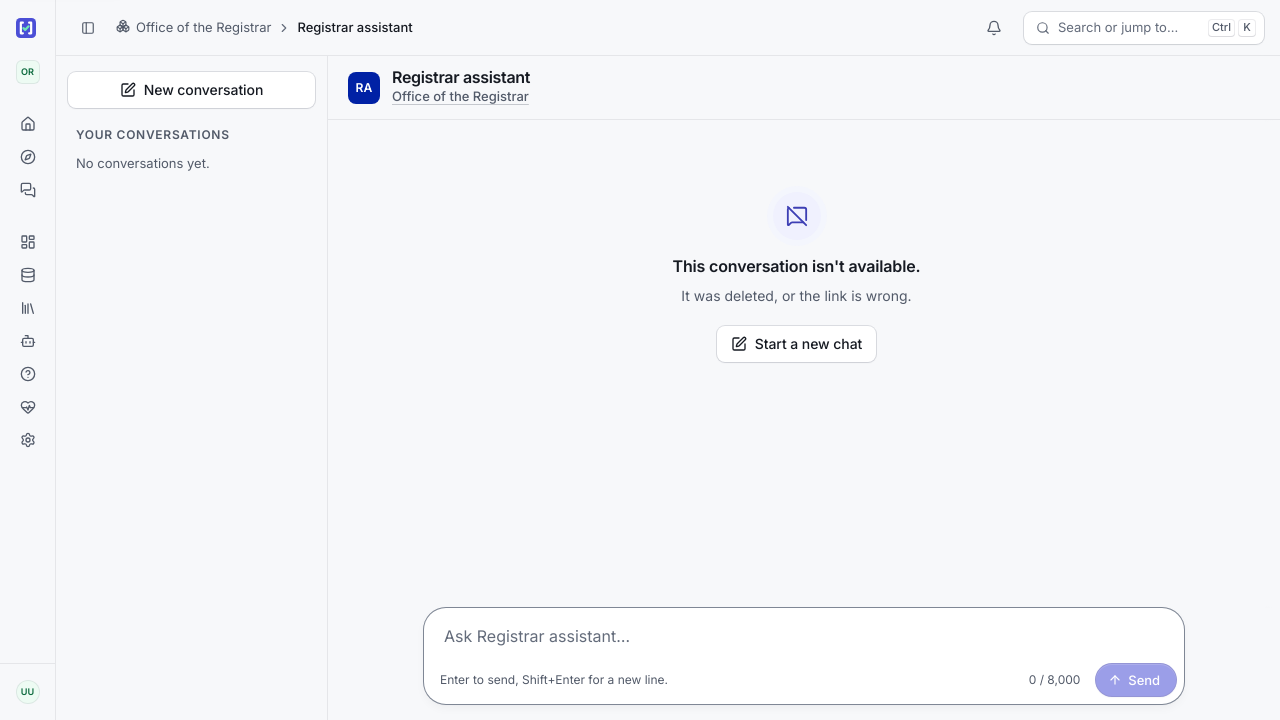
Test: a link to a conversation that isn't there (US-01) › the notice's button opens a new chat
Click the button "Start a new chat": (796, 344) [717, 326, 876, 362]
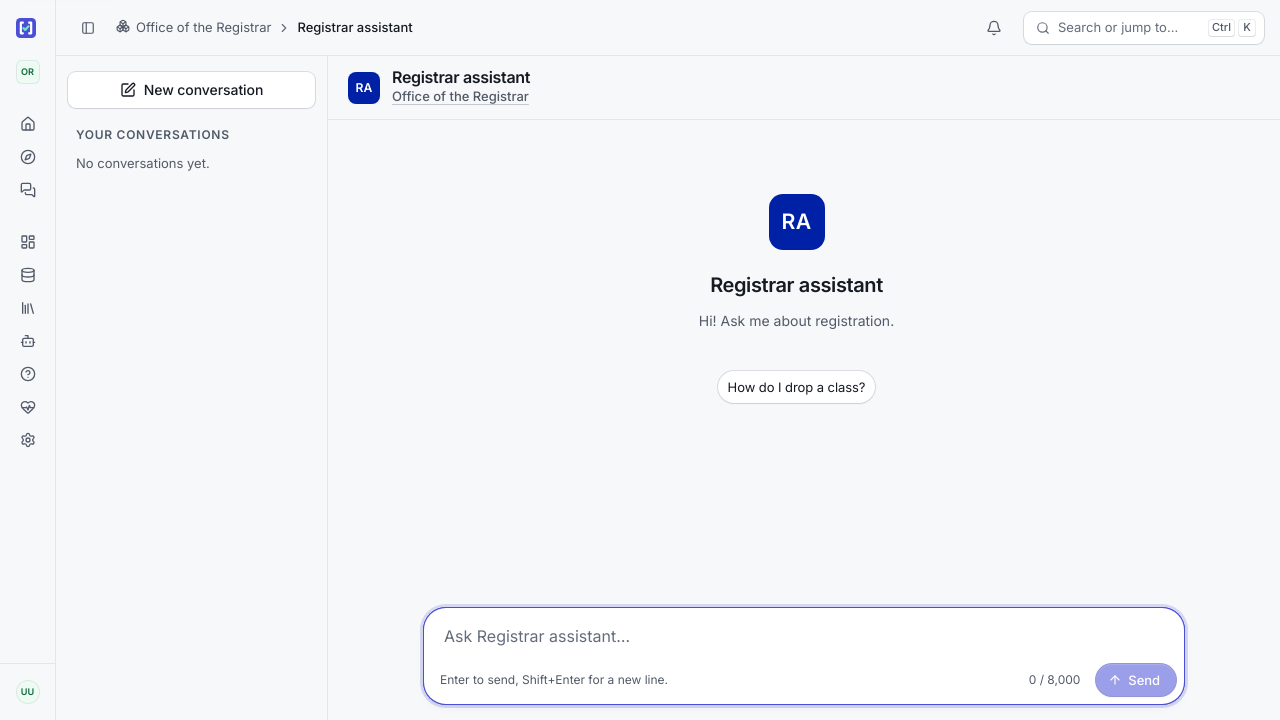
Expected: the text "Hi! Ask me about registration." is shown, [699, 312, 894, 330]
